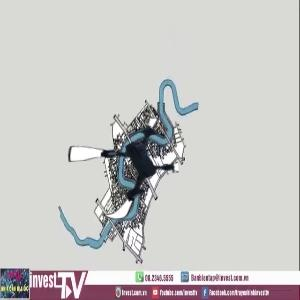drone: (69, 112, 179, 222)
